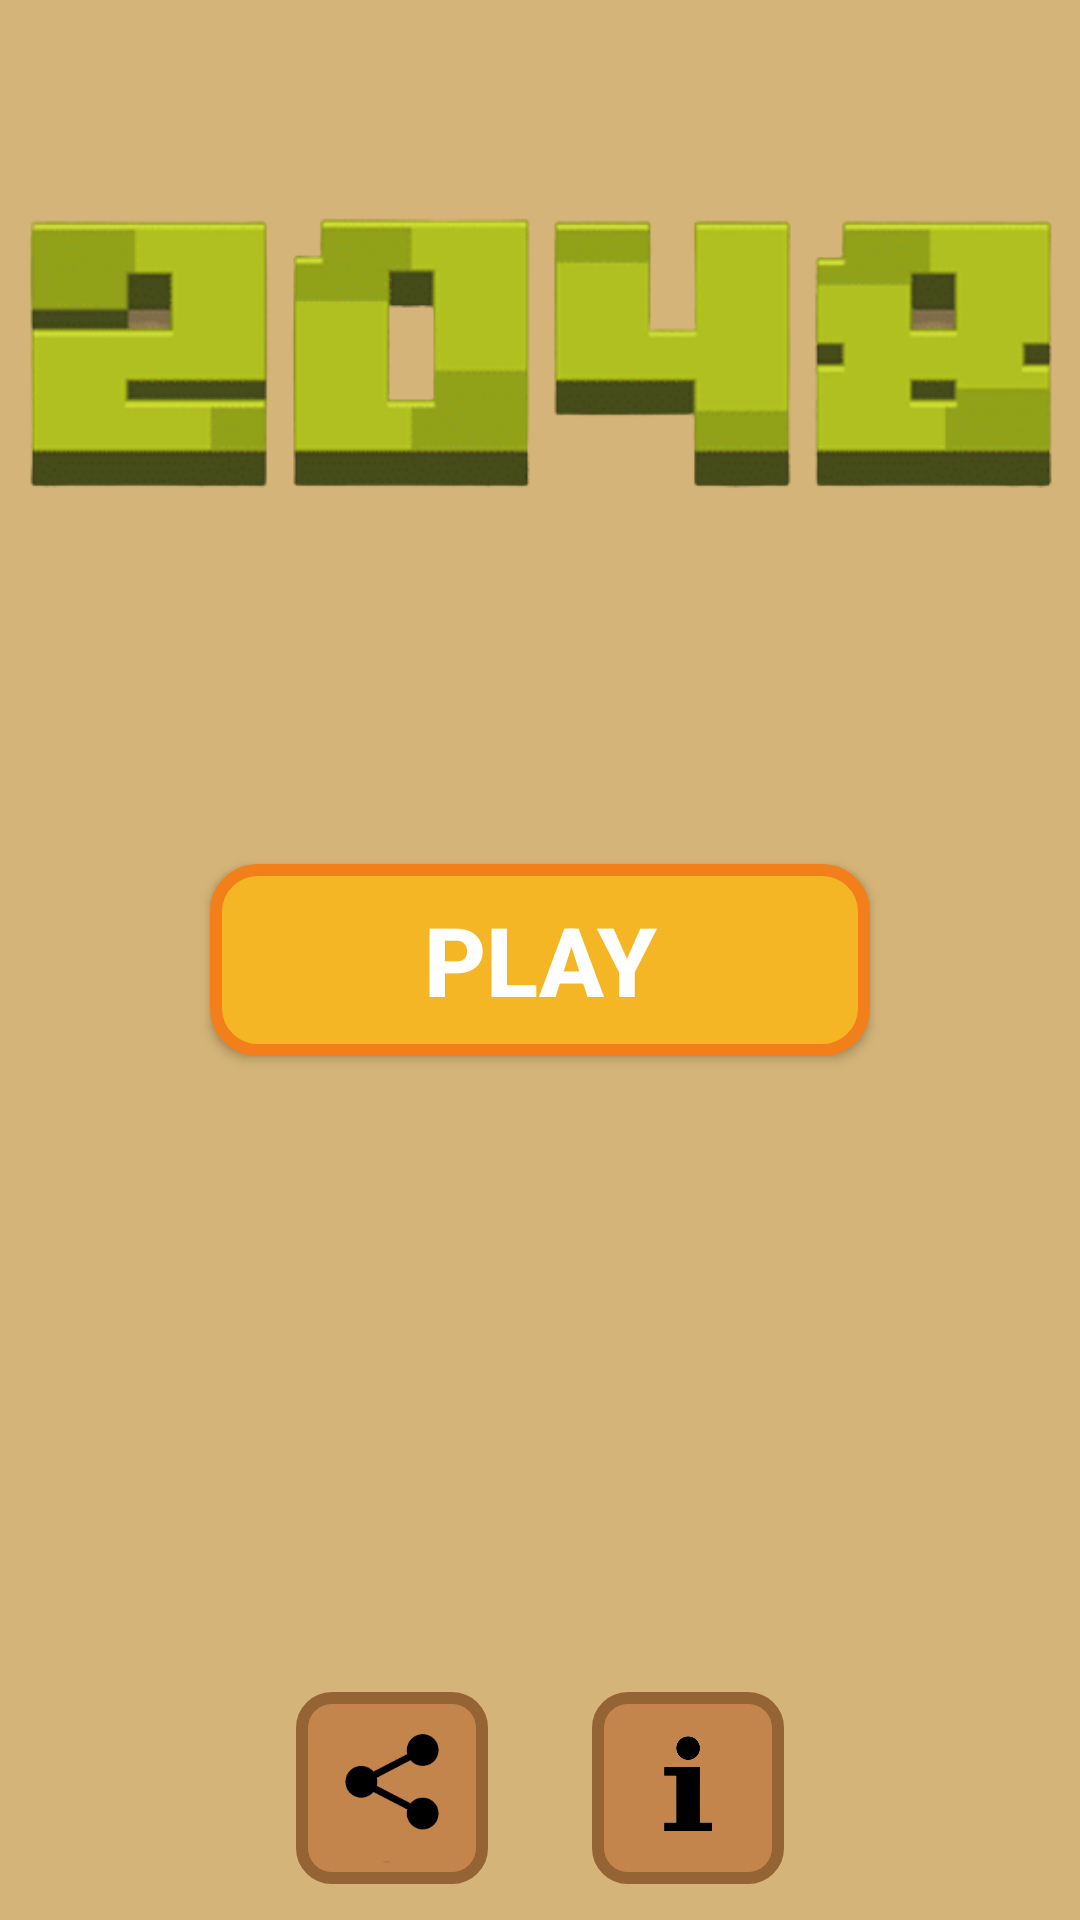

Icons on this 1080×1920 Android screen, each with its box as (x1, y1, x2, y2):
info: (592, 1692, 784, 1884)
share: (296, 1692, 488, 1884)
